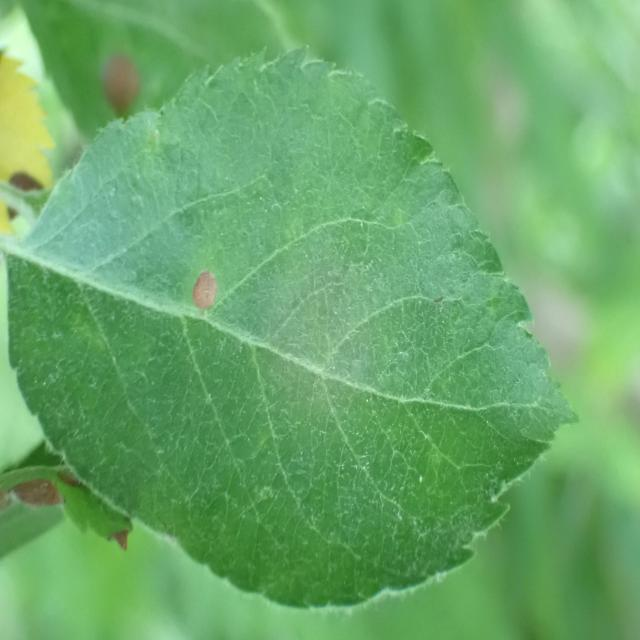Black Rot: (178, 252, 235, 330)
